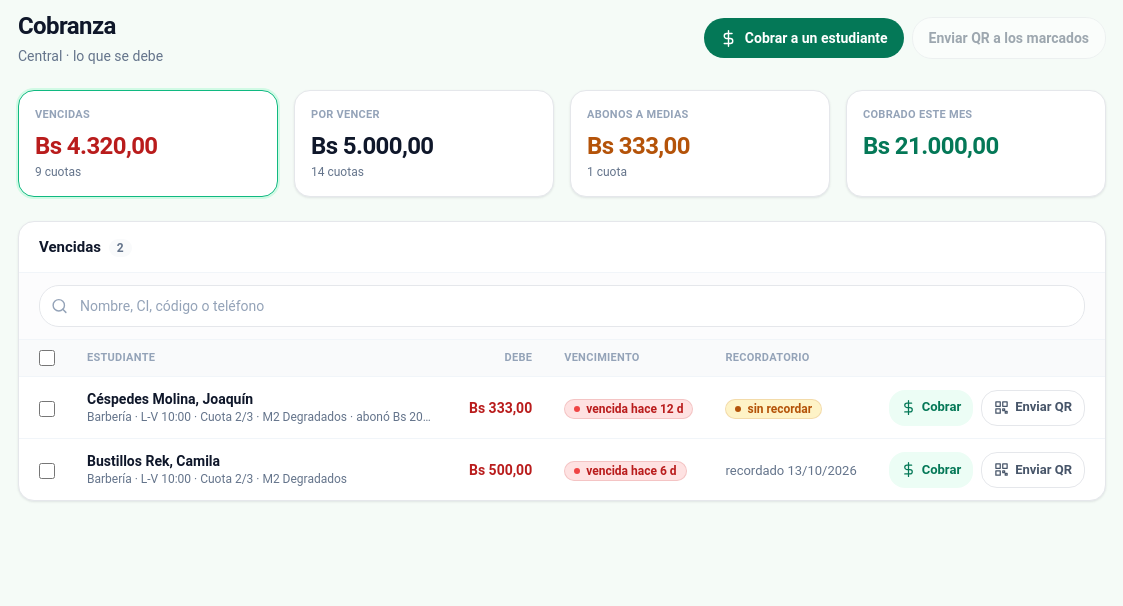
N7 · cobranza › D10: sin resultados lo dice y el buscador sigue ahí; limpiar vuelve a la lista
Type "zzz" into the field with placeholder "Nombre, CI, código o teléfono" at (562, 306), box [39,285,1085,327]
Wait 350 ms
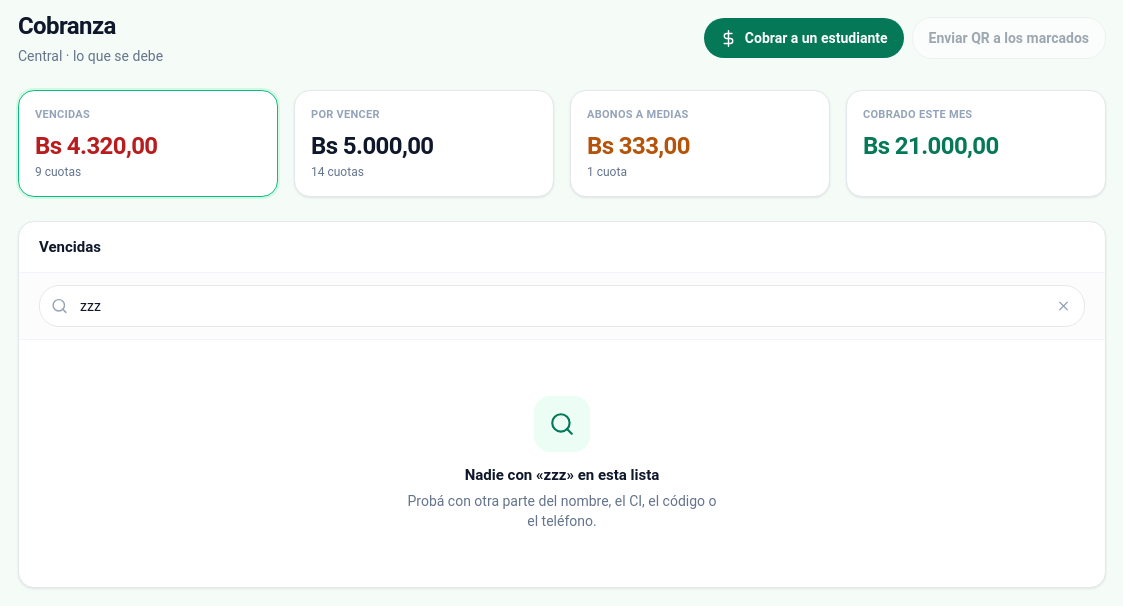
Result: the heading "Nadie con «zzz» en esta lista" is shown at [465,464,659,486]
Click the button named "Limpiar búsqueda" at (1064, 306), box [1046,288,1081,324]
Wait 350 ms
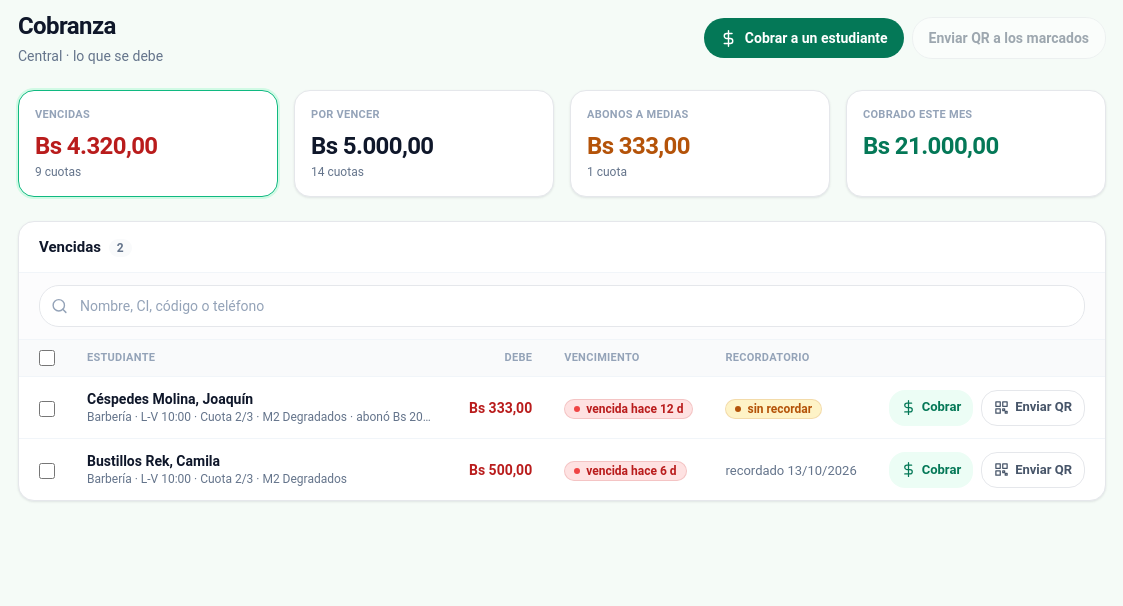
Result: the text "Céspedes Molina, Joaquín" is shown at [87,391,253,407]
